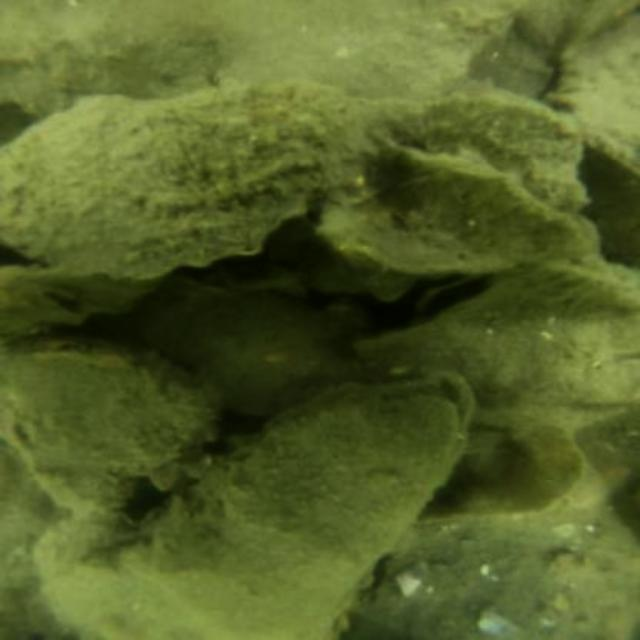Oyster-Closed: (133, 372, 479, 638), (2, 87, 376, 279), (366, 264, 632, 431), (312, 146, 610, 277), (6, 331, 220, 513), (120, 288, 349, 413), (381, 85, 578, 205), (33, 498, 199, 638), (418, 408, 591, 524), (549, 5, 636, 171), (524, 257, 632, 310)
Oyster-Open: (411, 260, 512, 325)
